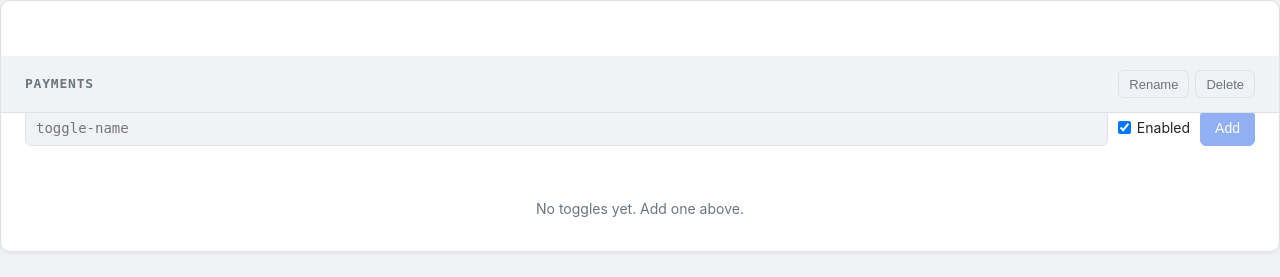
Test case: GroupSection › clicking Rename shows an inline input pre-filled with the group name
Click the button "Rename": (1154, 84) [1118,70,1189,98]
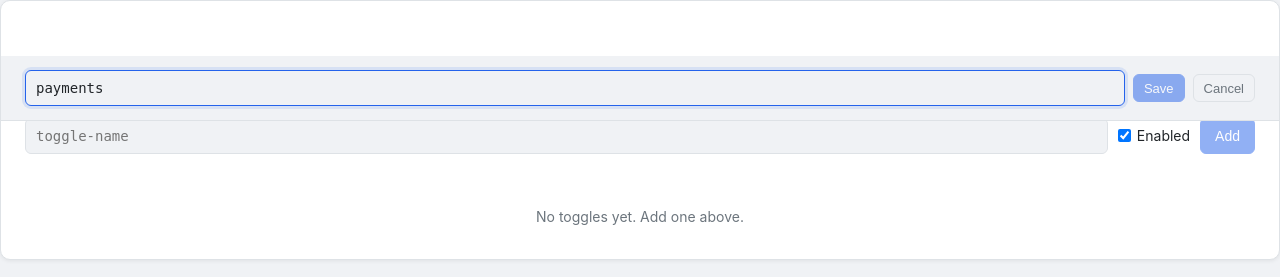
Expected: the field named "New group name" holds "payments", [25,70,1125,106]
